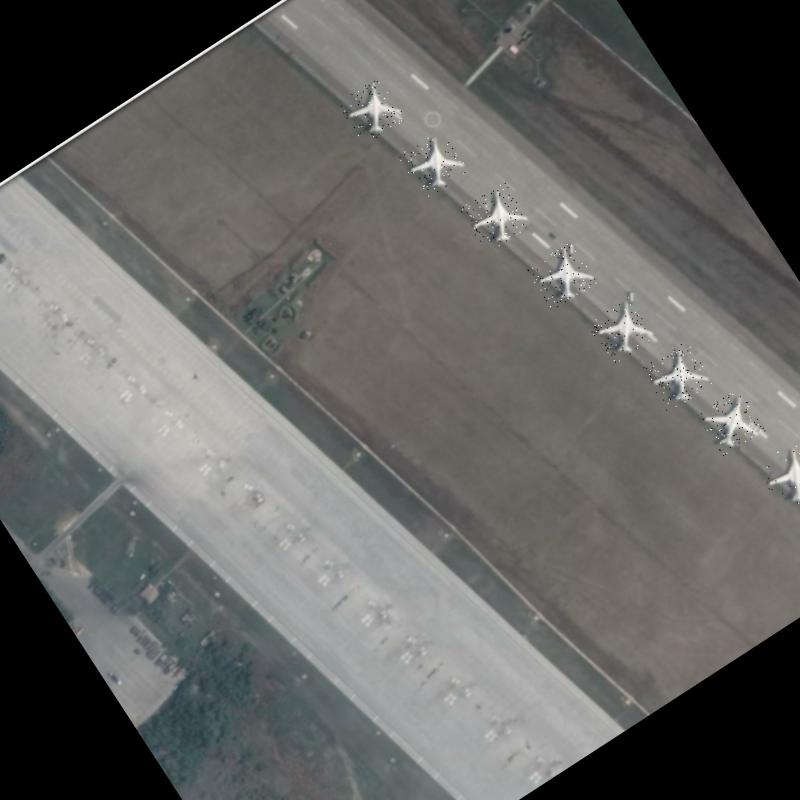A6: (458, 180, 532, 254), (640, 340, 714, 414), (398, 126, 470, 200), (526, 240, 598, 312), (337, 75, 407, 146), (697, 388, 767, 459), (586, 296, 656, 365), (754, 436, 800, 514)
